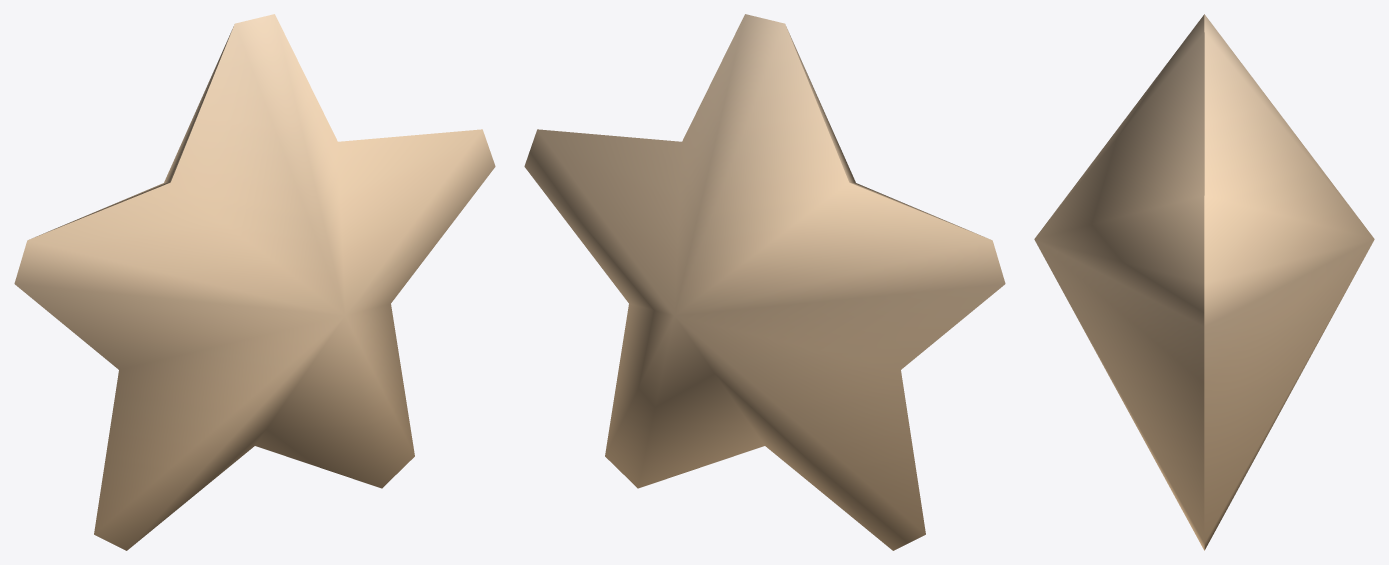
Rendered from star.glb.
3 renders of one model, left to right at view 1: azimuth 30°, elevation 25°; view 2: azimuth 150°, elevation 25°; view 3: azimuth 270°, elevation 25°, orthographic. The views are drawn at different scales.
Visible parts, largest first — view 1: star; view 2: star; view 3: star.
Boxes of the visible parts, x1=… form: star: x1=14, y1=14, x2=495, y2=550; star: x1=524, y1=14, x2=1005, y2=550; star: x1=1034, y1=14, x2=1374, y2=550.
Size of the model in its own units: 0.365 by 0.3631 by 0.2385.
